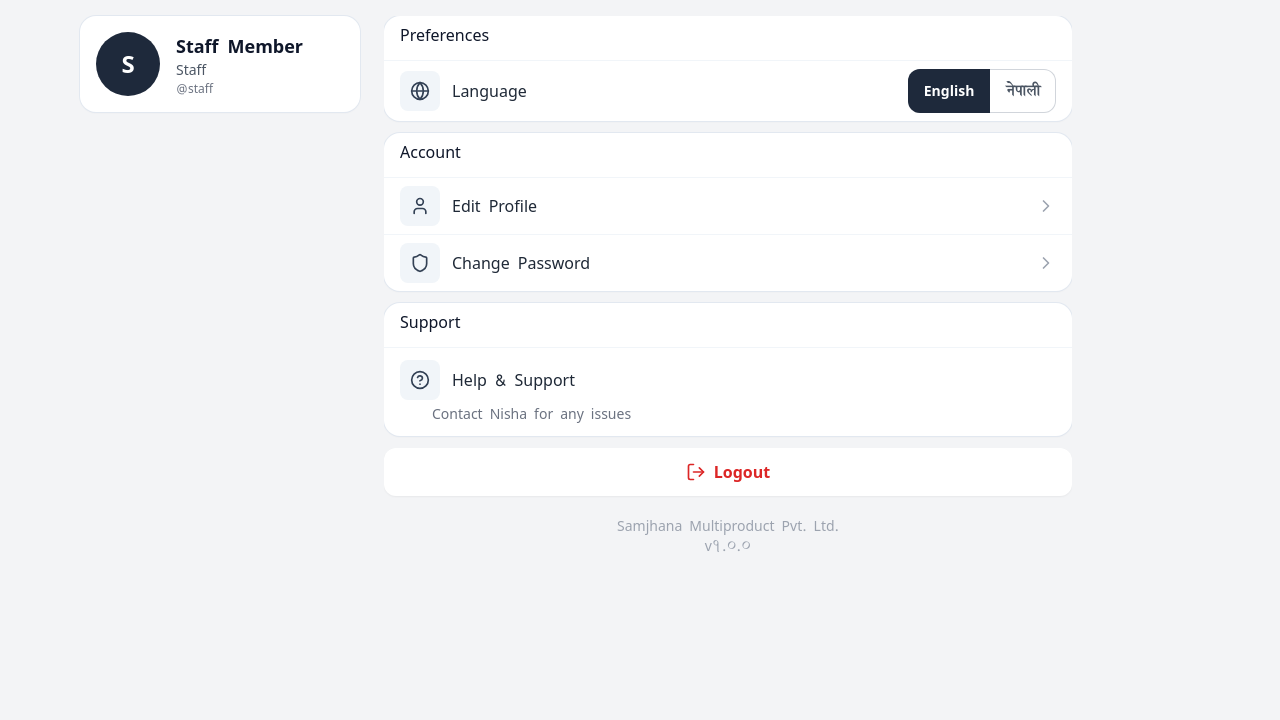
Test case: SettingsPage change password › shows the server's reason for refusing a common password
The width and height of the screenshot is (1280, 720).
Click the button "Change Password".
click(420, 263)  # box [384, 234, 1072, 291]
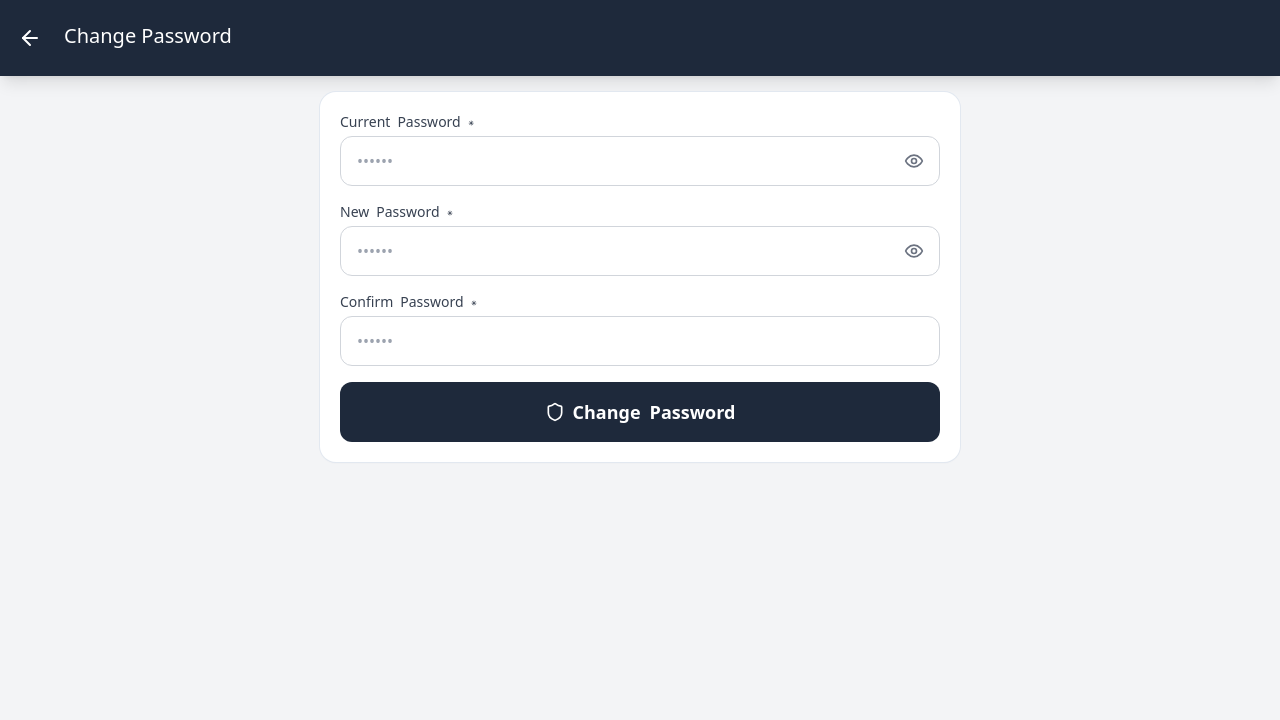
Type "old-pass-123" into the password field with placeholder "••••••" below "Current Password".
click(640, 161); type("old-pass-123")  # box [340, 136, 940, 186]
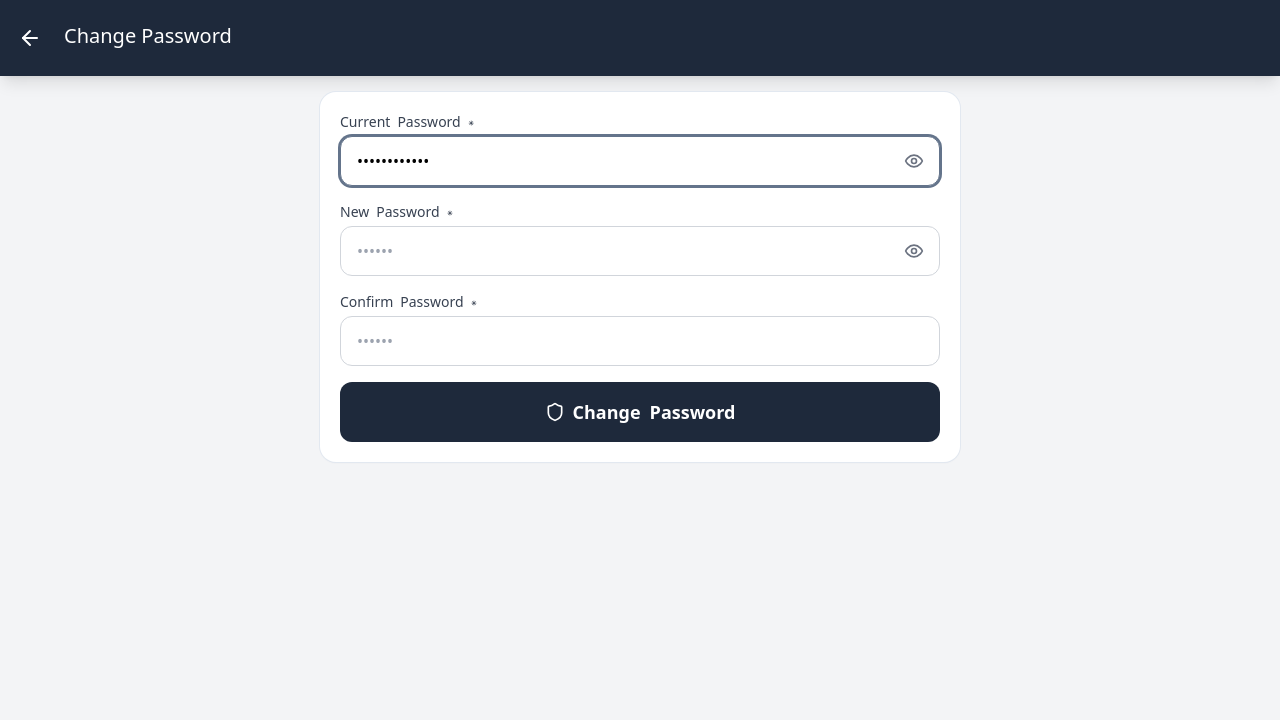
Type "Password123" into the password field with placeholder "••••••" below "New Password".
click(640, 251); type("Password123")  # box [340, 226, 940, 276]
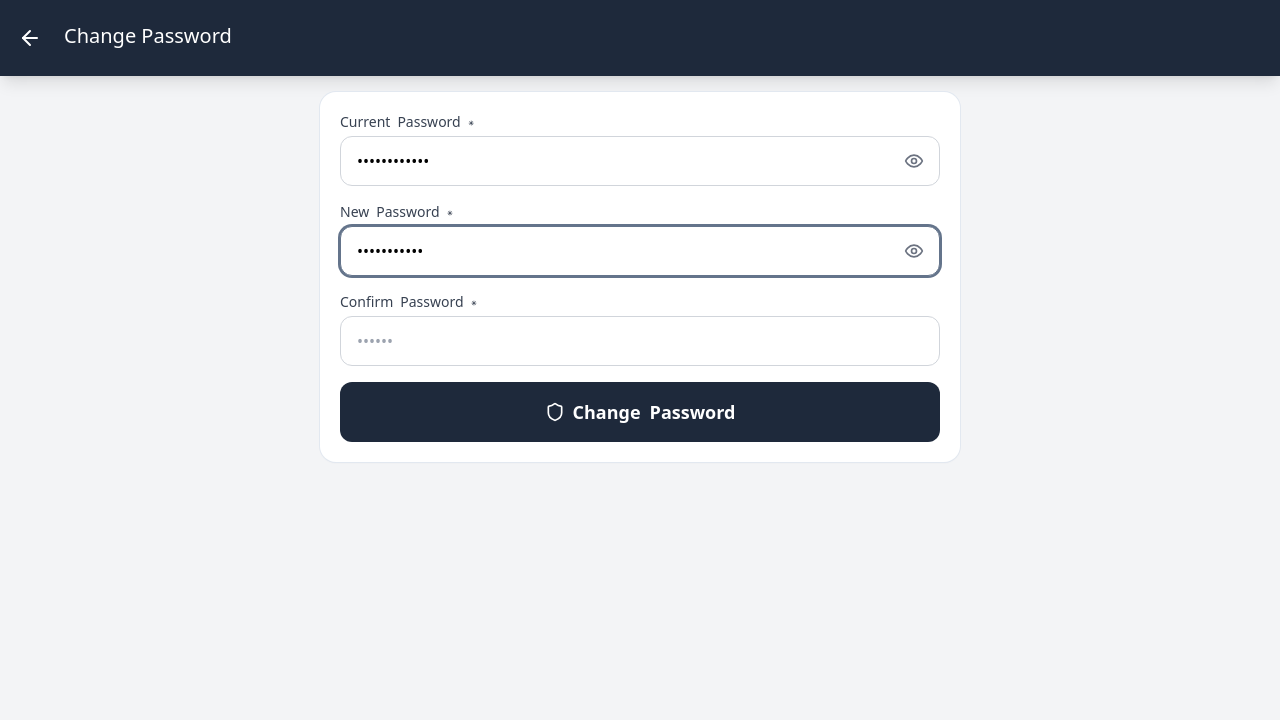
Type "Password123" into the password field with placeholder "••••••".
click(640, 341); type("Password123")  # box [340, 316, 940, 366]
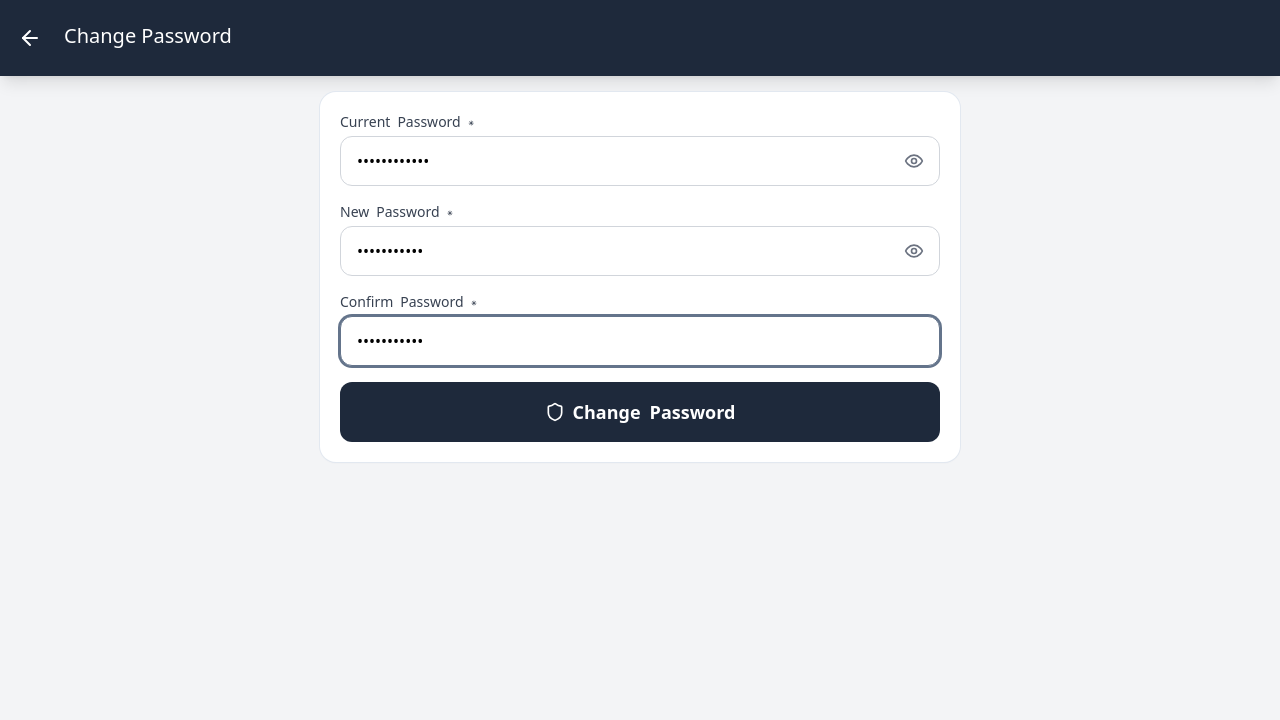
Click the button "Change Password".
click(640, 412)  # box [340, 382, 940, 442]
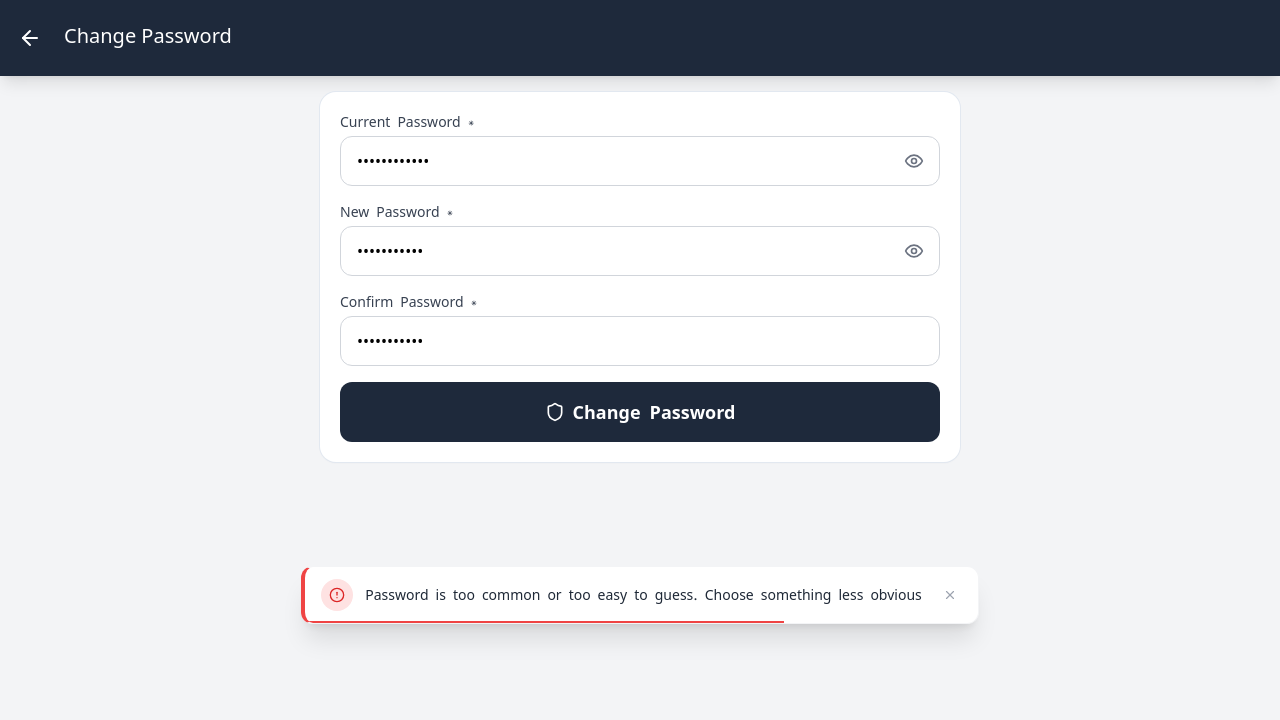
expect the text "Password is too common or too easy to guess. Choose something less obvious" is shown: met, box [365, 585, 926, 605]
